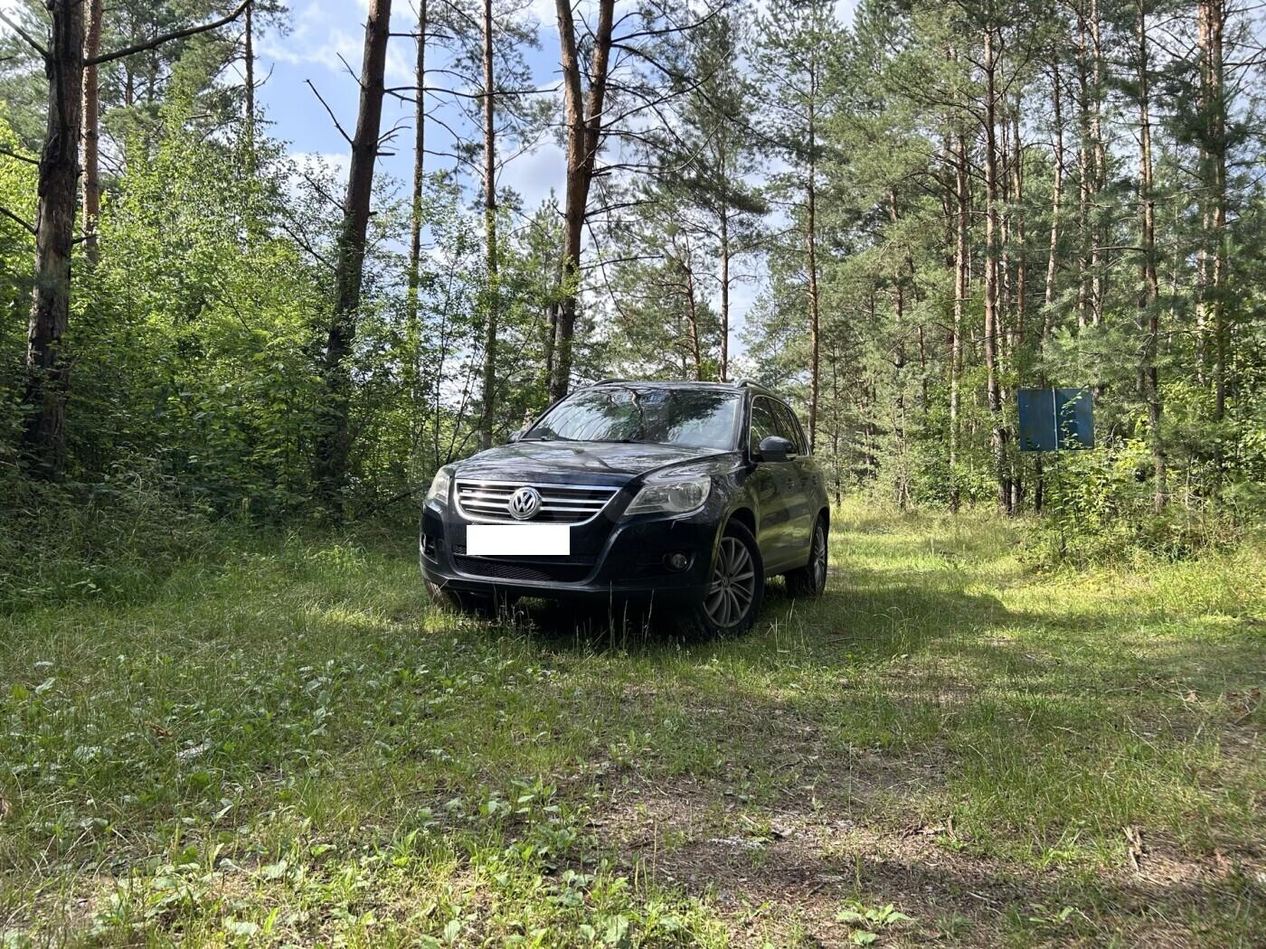Tiguan_2007-2011: (417, 376, 838, 646)
